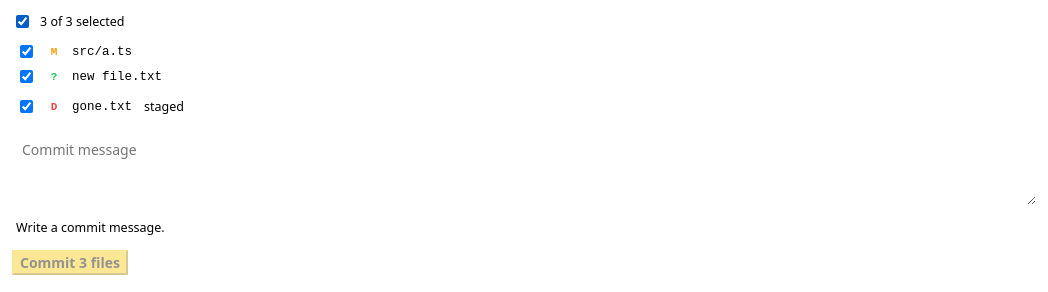
Test case: ChangesView › select all toggles, and with nothing selected explains
Step 1. Click the checkbox labelled "3 of 3 selected" → (22,22), box [16, 15, 29, 28]
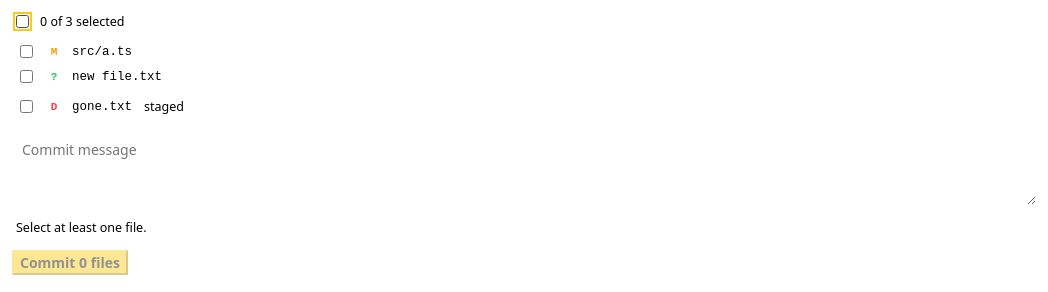
Check: the text "0 of 3 selected" is shown, box [16, 13, 124, 30]
Check: the text "Select at least one file." is shown, box [16, 219, 146, 236]
Step 2. Click the checkbox labelled "0 of 3 selected" → (22,22), box [16, 15, 29, 28]
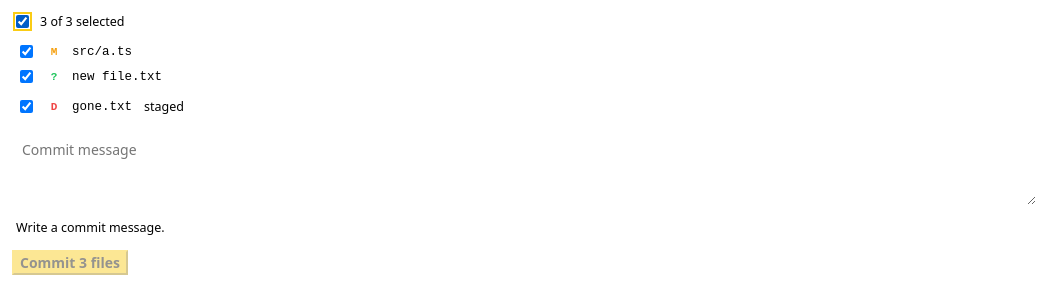
Check: the text "3 of 3 selected" is shown, box [16, 13, 124, 30]
